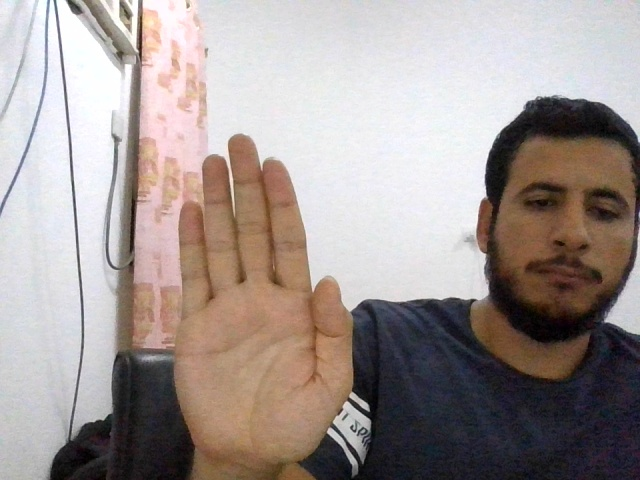Five: (174, 133, 355, 463)
